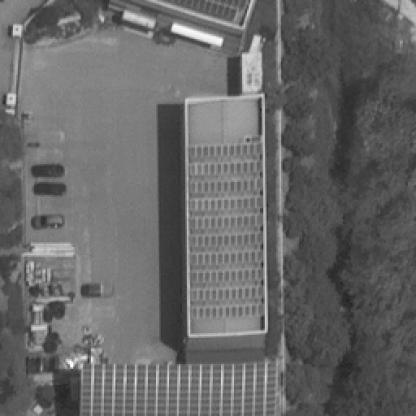solar-pv-panel: (78, 364, 277, 416), (151, 0, 246, 21), (187, 135, 263, 159), (190, 285, 264, 303), (188, 269, 265, 284), (189, 234, 265, 249), (188, 162, 262, 177), (189, 198, 263, 212), (190, 180, 264, 193), (190, 216, 263, 229), (188, 253, 265, 265), (189, 306, 265, 316)
